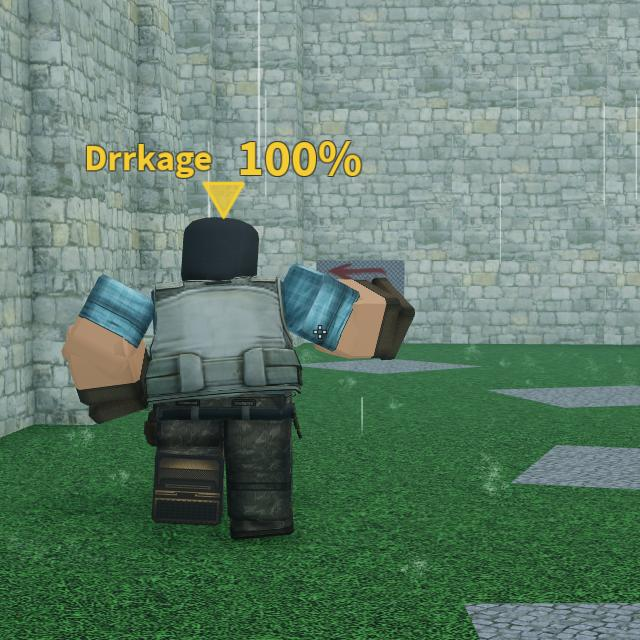Head: (180, 218, 260, 280)
Player: (62, 218, 416, 540)
